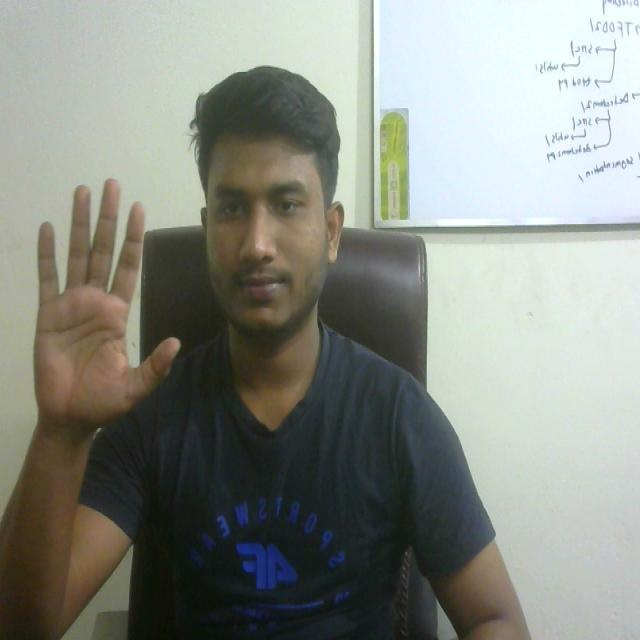A: (13, 169, 182, 436)
